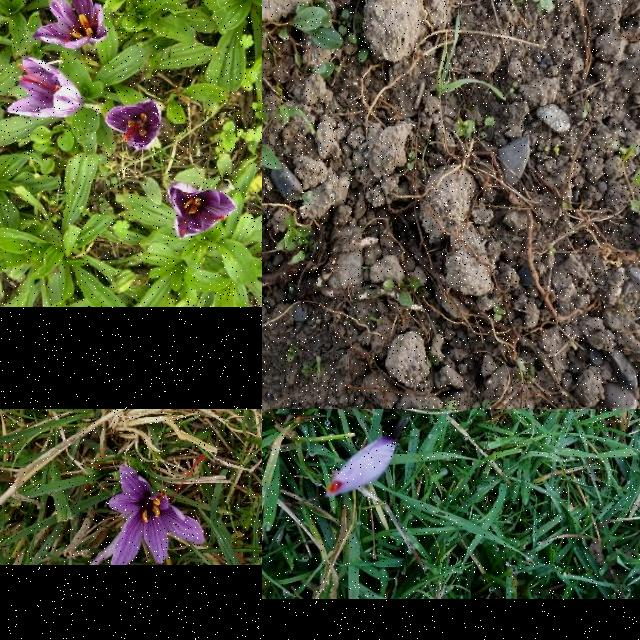flower: (109, 453, 207, 565), (326, 429, 398, 498), (8, 56, 84, 120), (34, 0, 109, 51), (169, 186, 237, 238), (104, 102, 164, 152)
